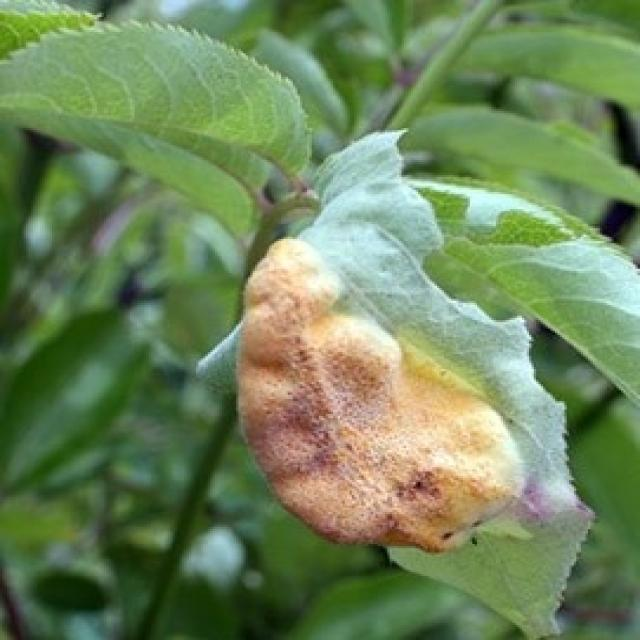Elderberry_rust: (231, 232, 529, 554)
